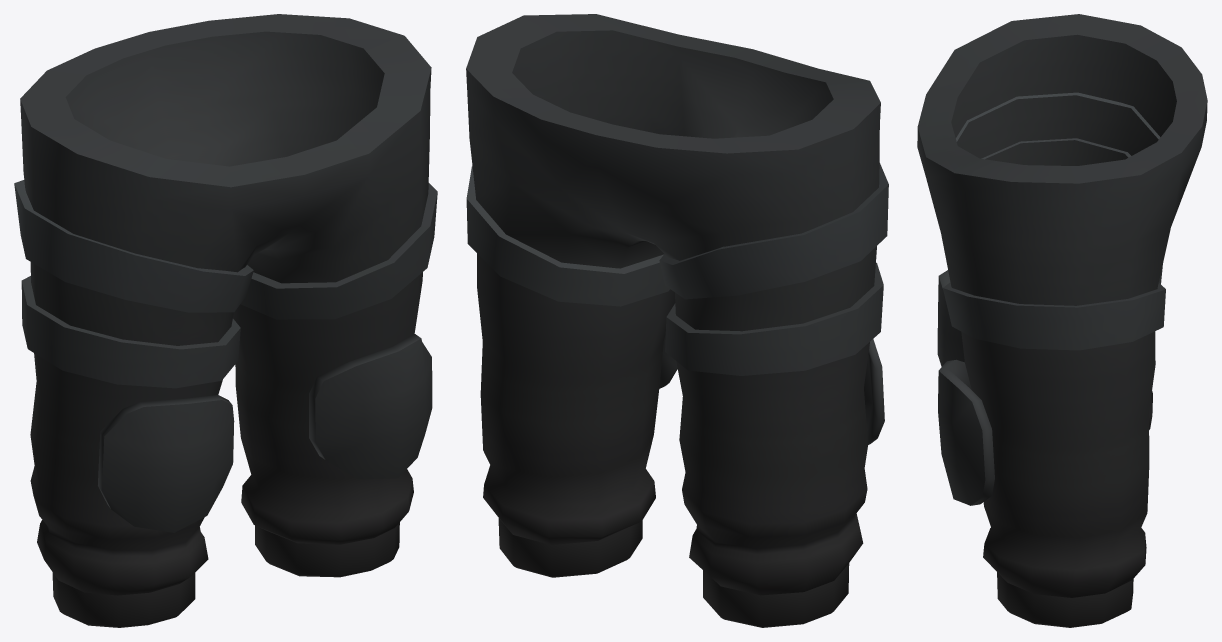
The model's file is Pants_08.glb.
3 renders of one model, left to right at view 1: azimuth 30°, elevation 25°; view 2: azimuth 150°, elevation 25°; view 3: azimuth 270°, elevation 25°, orthographic. The views are drawn at different scales.
Parts seen in each view (by area): view 1: Pants_08; view 2: Pants_08; view 3: Pants_08.
Boxes of the visible parts, x1=… form: Pants_08: x1=14, y1=14, x2=437, y2=627; Pants_08: x1=466, y1=14, x2=888, y2=627; Pants_08: x1=917, y1=14, x2=1207, y2=627.
Size of the model in its own units: 0.256 by 0.3116 by 0.1791.
Materials: 1 (1 with a texture image).
